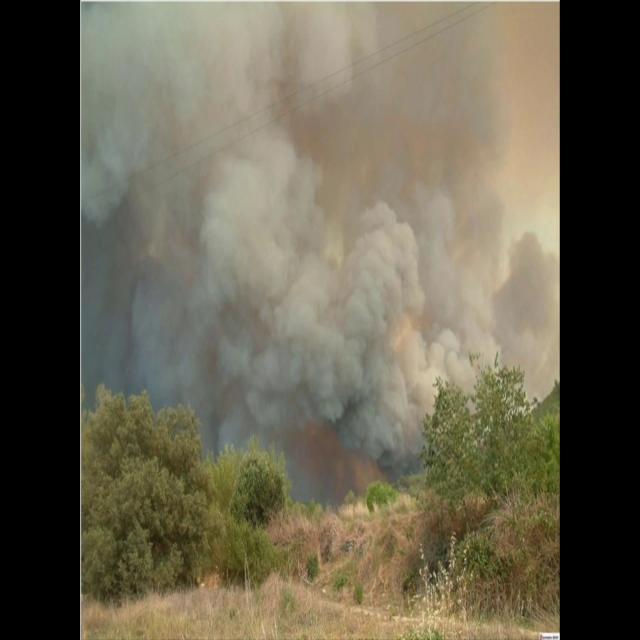Smoke: (82, 0, 558, 463)
